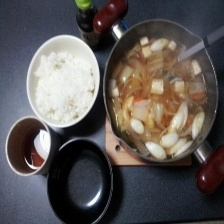rice: (33, 50, 97, 124)
